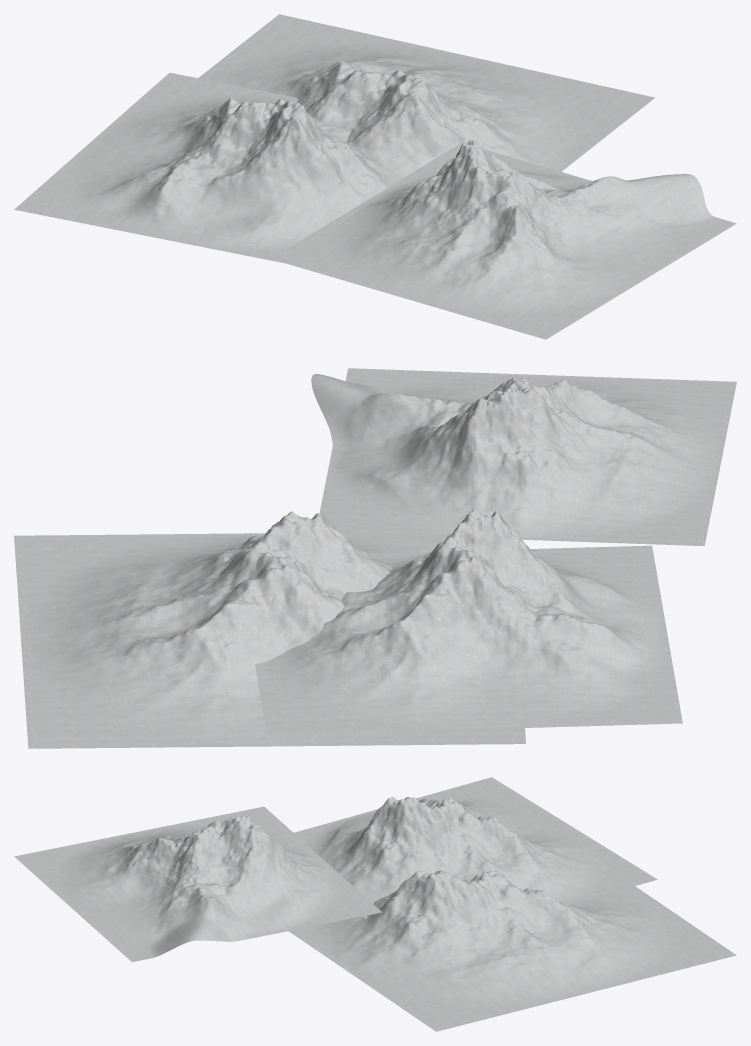
File: mountain.glb
3 views of the same model, one above another, from view 1: azimuth 30°, elevation 25°; view 2: azimuth 150°, elevation 25°; view 3: azimuth 270°, elevation 25° (orthographic). The views are drawn at different scales.
Visible parts, largest first — view 1: Landscape, Landscape.001, Landscape.002; view 2: Landscape.002, Landscape.001, Landscape; view 3: Landscape.002, Landscape, Landscape.001.
Boxes of the visible parts, <box> form: Landscape: <box>271,140,736,339</box>; Landscape.001: <box>14,72,403,263</box>; Landscape.002: <box>198,14,654,177</box>; Landscape.002: <box>14,511,525,748</box>; Landscape.001: <box>255,508,682,735</box>; Landscape: <box>311,368,736,546</box>; Landscape.002: <box>288,870,736,1031</box>; Landscape: <box>14,806,381,962</box>; Landscape.001: <box>294,777,657,919</box>.
Size of the model in its own units: 46.31 by 8.43 by 57.74.
1 material, 1 textured.
